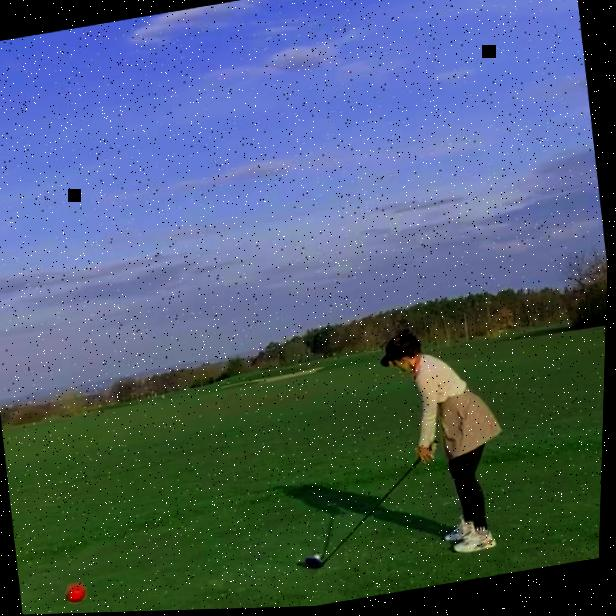ClubHead: (306, 557, 328, 573)
GolfBall: (317, 555, 324, 562)
